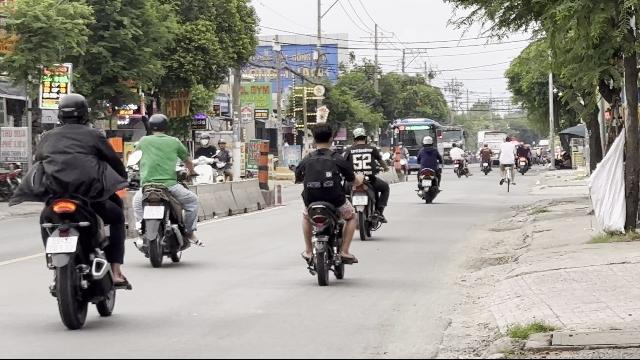helmet: (54, 93, 90, 125), (146, 112, 168, 134)
licenseplate: (46, 236, 76, 253), (144, 206, 164, 220)
motorcyclist: (27, 91, 131, 327), (126, 112, 202, 266), (294, 122, 361, 286)
nohelmet: (310, 124, 334, 150)
